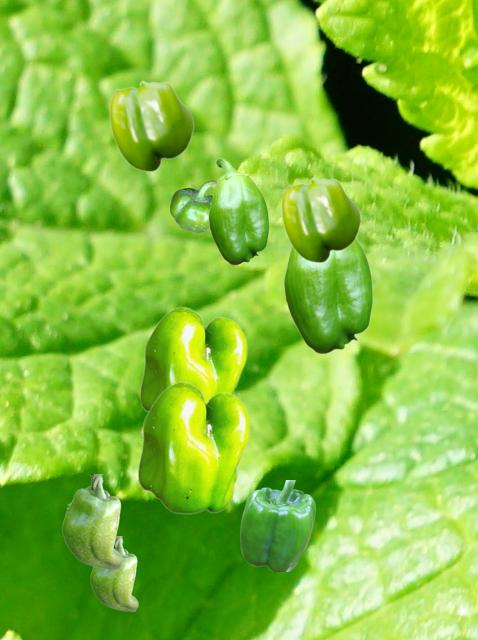bell_pepper: (137, 381, 249, 513), (139, 306, 246, 412), (283, 238, 372, 353), (109, 80, 193, 171), (281, 177, 360, 262), (240, 480, 314, 570), (208, 158, 268, 264), (62, 474, 121, 568), (90, 536, 137, 610), (170, 180, 216, 231)
